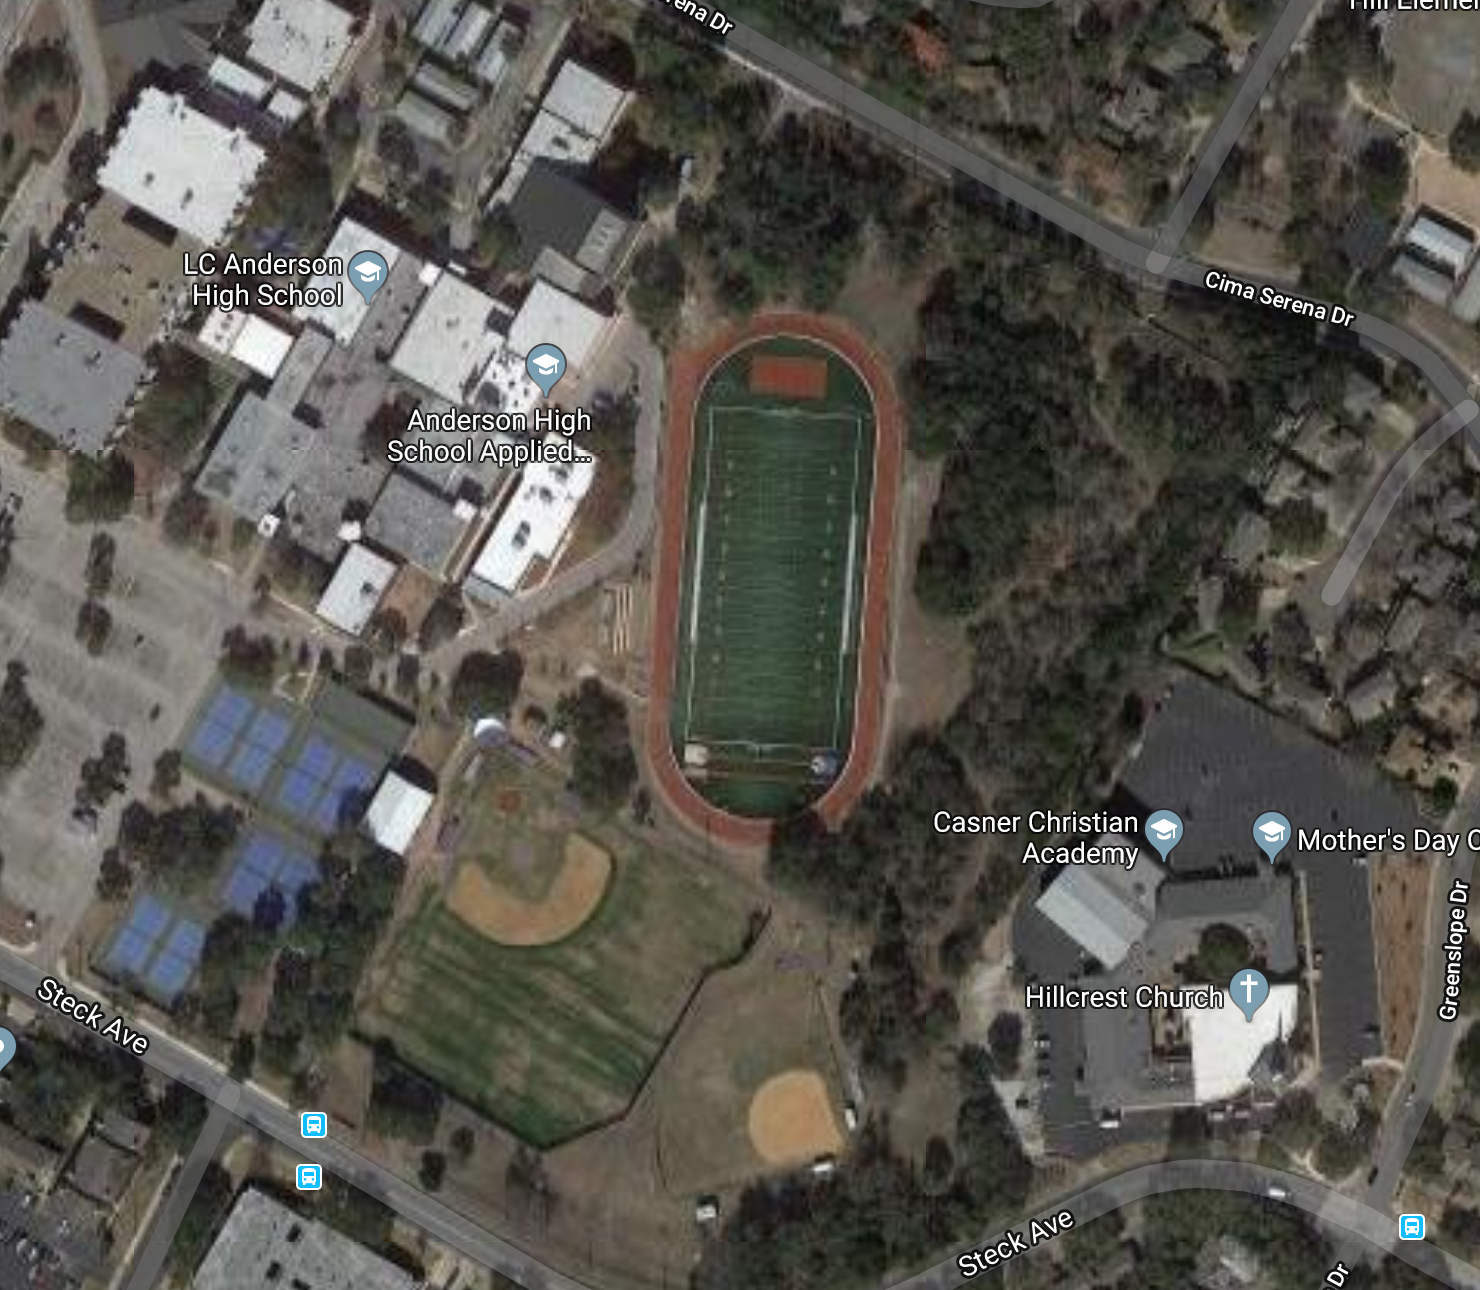baseball: (359, 711, 615, 1133)
football: (633, 283, 928, 860)
